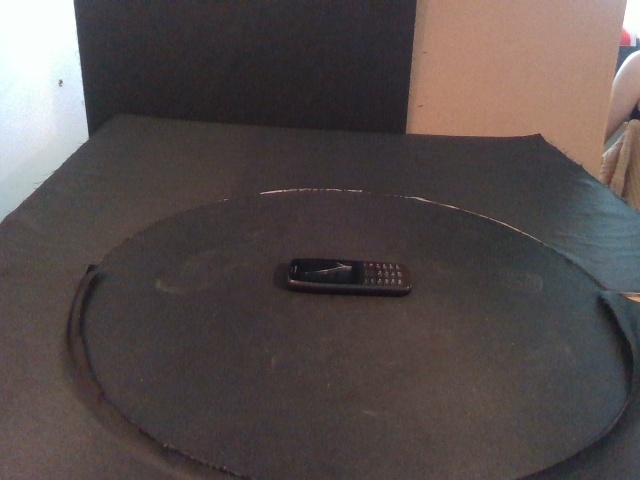phone: (286, 258, 413, 297)
